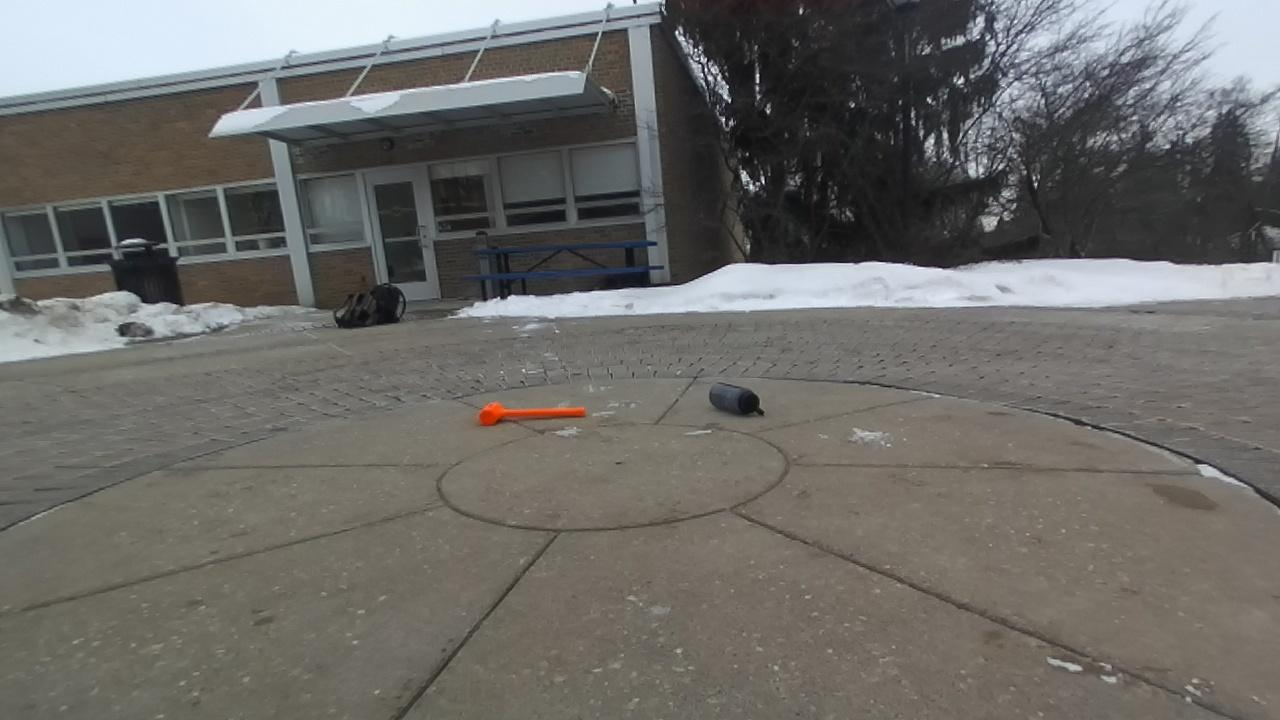bottle: (709, 382, 763, 415)
mallet: (478, 402, 585, 425)
